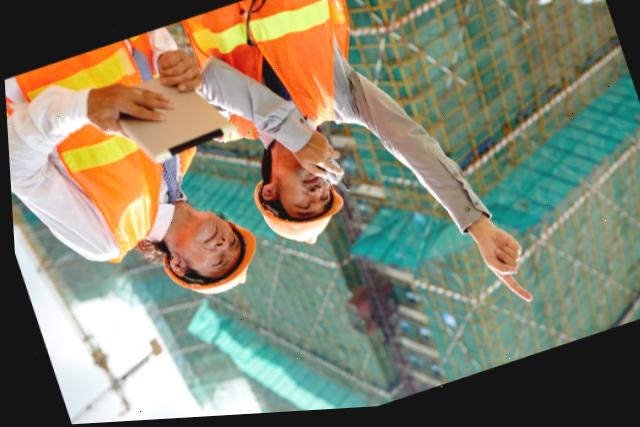helmet: (242, 153, 361, 263), (145, 216, 268, 311)
vest: (2, 24, 229, 284), (172, 0, 384, 165)
